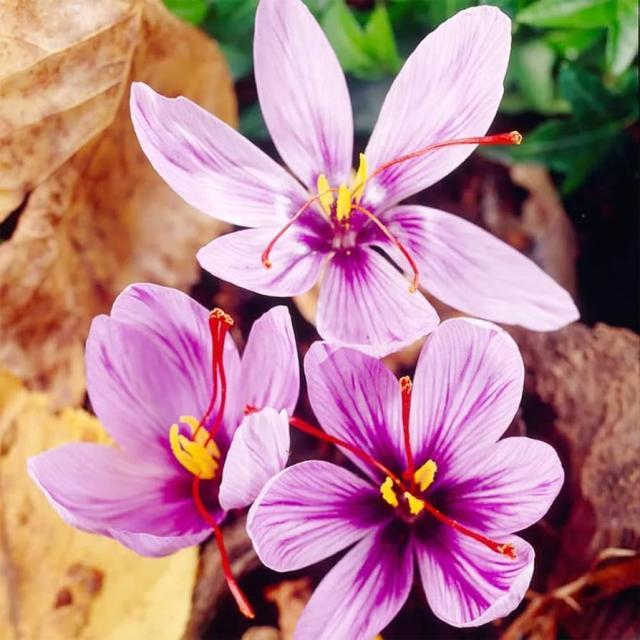Flower: (179, 62, 532, 330), (276, 358, 579, 640), (74, 305, 302, 556)
stigma: (238, 399, 390, 473), (190, 476, 260, 624), (360, 126, 527, 182), (353, 204, 426, 298), (422, 500, 526, 565), (189, 306, 228, 439), (202, 309, 238, 450), (258, 198, 318, 276), (396, 370, 419, 492)
